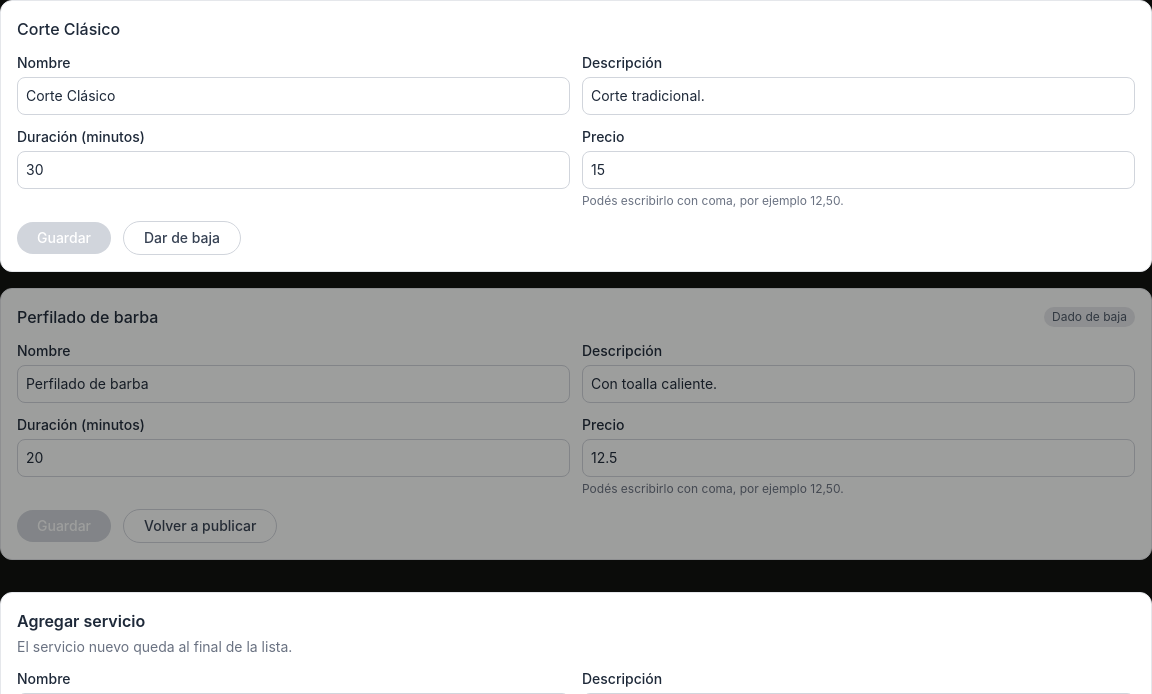
it: SeccionServiciosComponent › guardar un servicio › si falla muestra el error a la vista y NO muestra ninguna confirmación
The width and height of the screenshot is (1152, 694).
Replace the text in the field labelled "Nombre" below "Corte Clásico" with "Corte Premium" at point(294, 96), box [17,77,570,115]
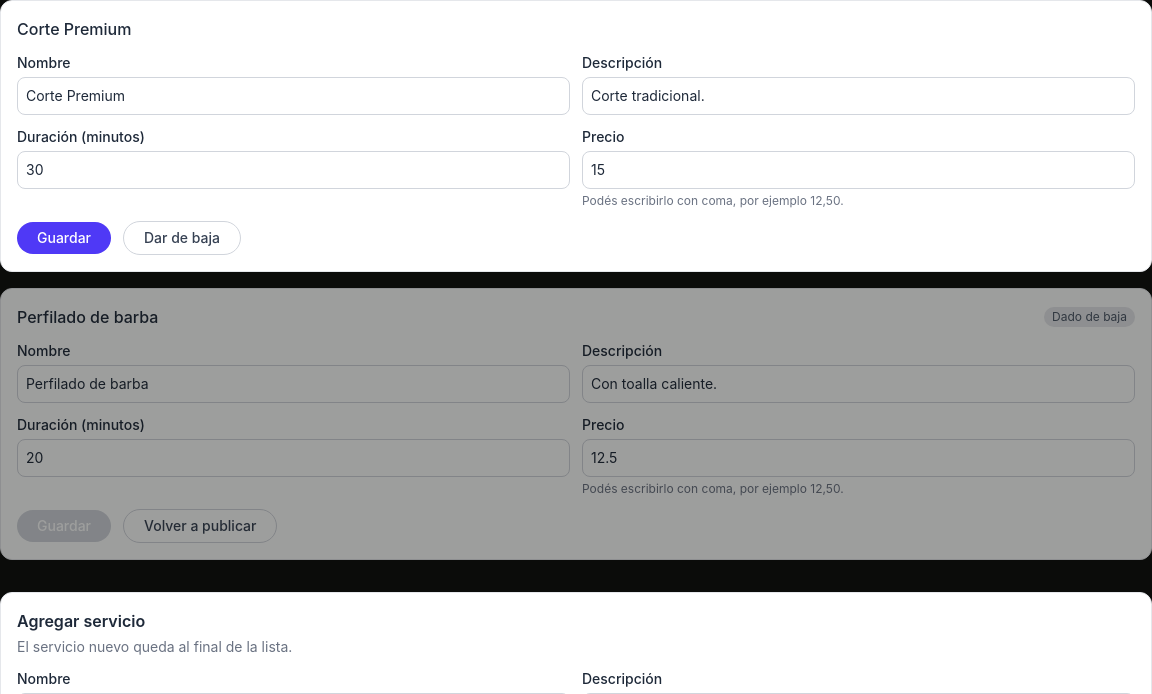
Click the button "Guardar" below "Corte Premium".
click(64, 238)  # box [17,222,111,254]
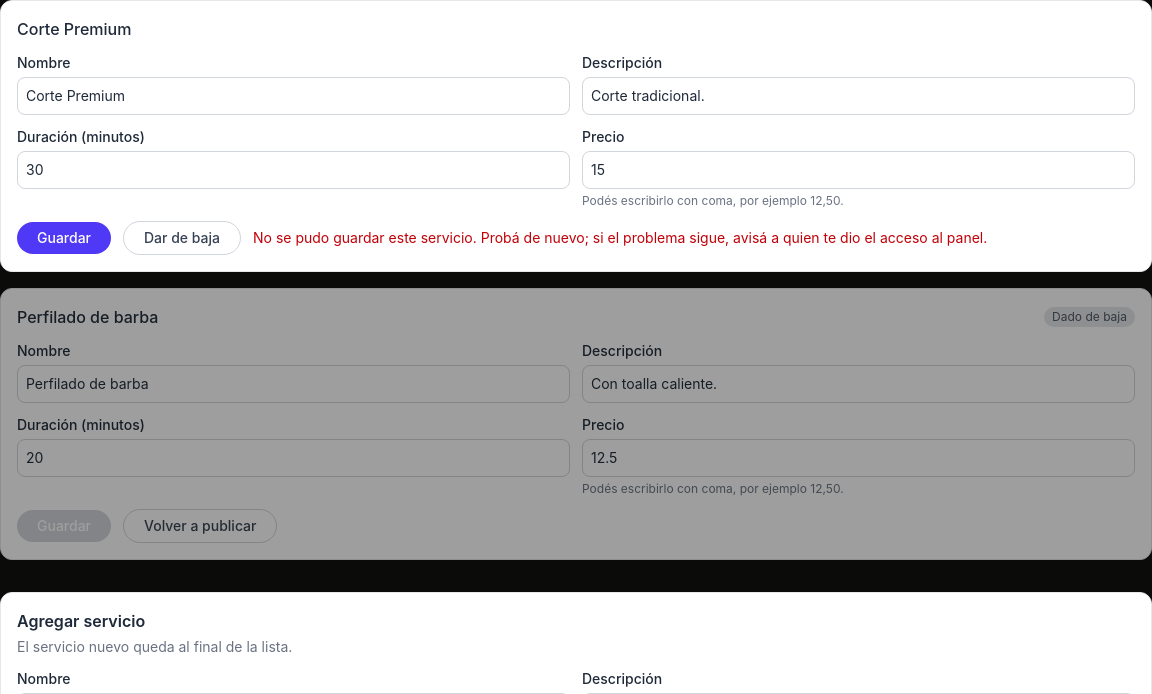
Now the list item that starts with "Corte Premium" shows "No se pudo guardar", box [253,229,987,246]
